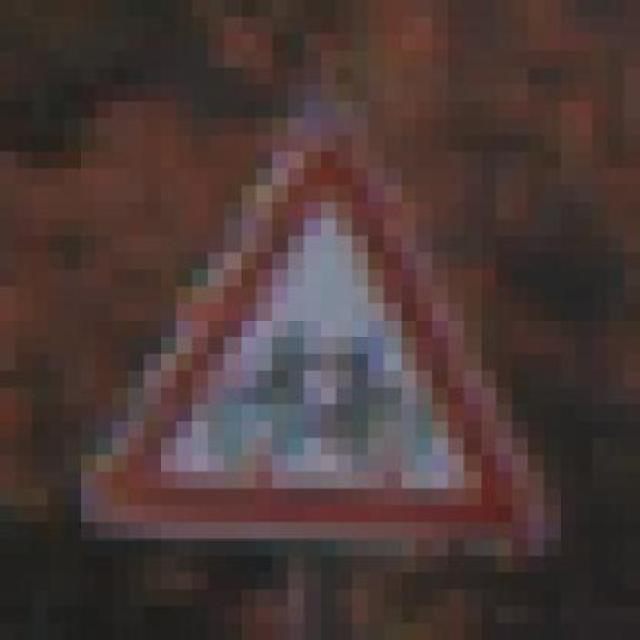CYCLE ROUTE AHEAD WARNING: (64, 118, 576, 573)
